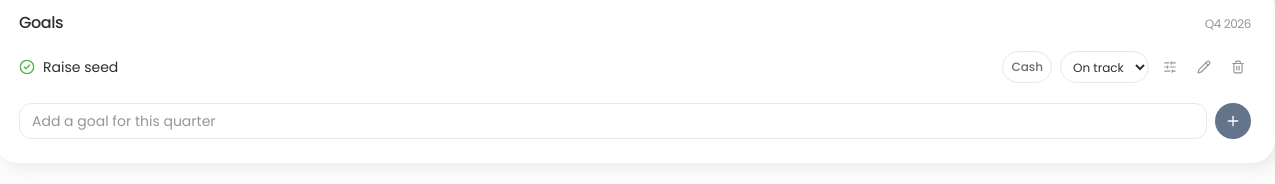
Test: GoalsPanel › Escape abandons a rename
Click the button named "Rename Raise seed": (1204, 67) 1191,54 -> 1217,80
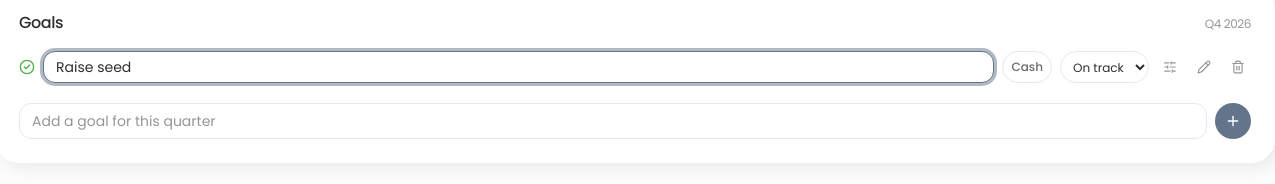
In the field named "Goal title": (519, 67) 43,51 -> 994,83, type " typo"
Then press Escape
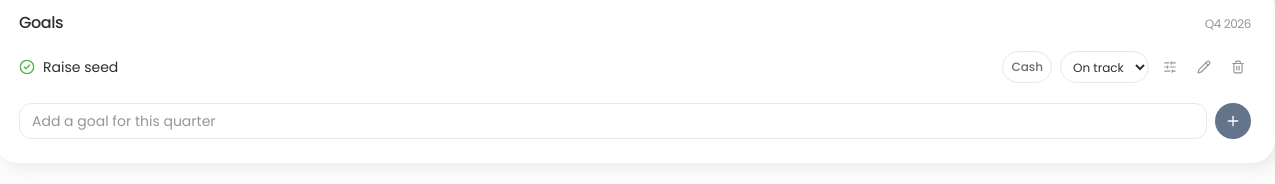
Now the text "Raise seed" is shown, box 43,57 -> 118,77
